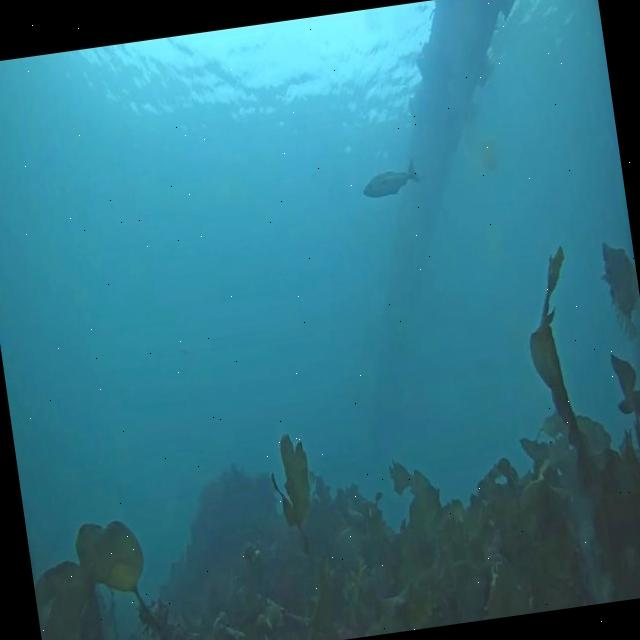fish: (596, 240, 640, 341), (360, 163, 422, 206)
